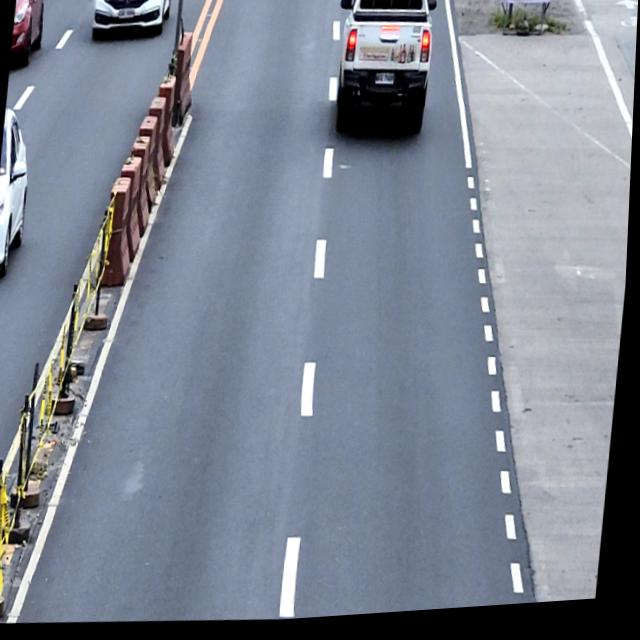Car: (328, 0, 440, 144), (0, 104, 37, 278), (90, 0, 172, 44), (11, 0, 46, 68)
License-Plate: (375, 75, 396, 92), (119, 8, 136, 21)
